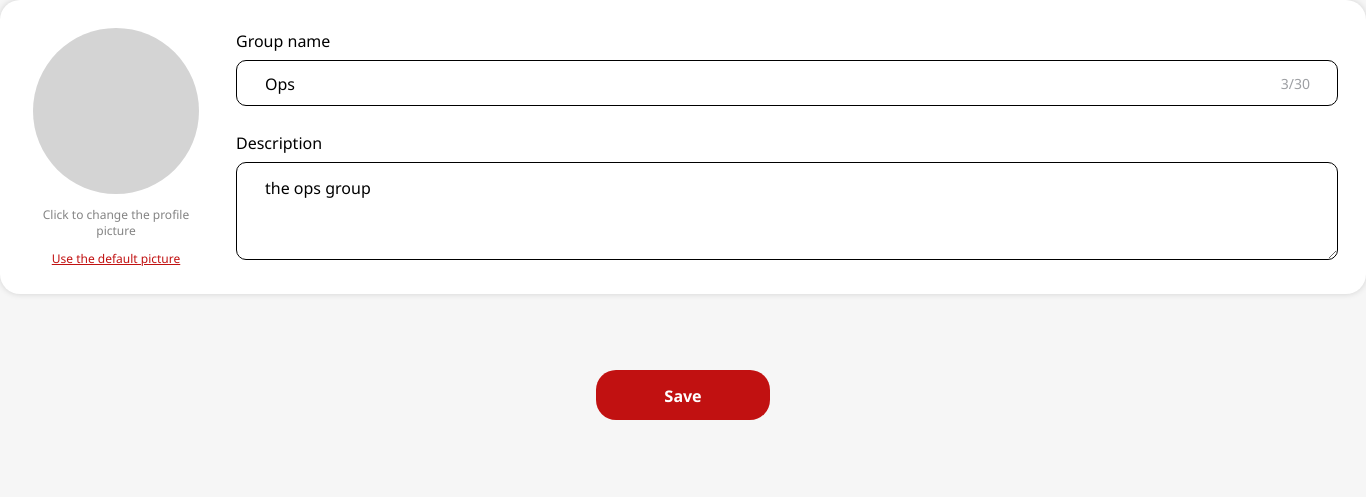
saving › keeps the user on the form and shows why when the core refuses
Replace the text in the field with id "groupName" with "Ops Team". click: coordinates (787, 83)
box: [236,60,1338,106]
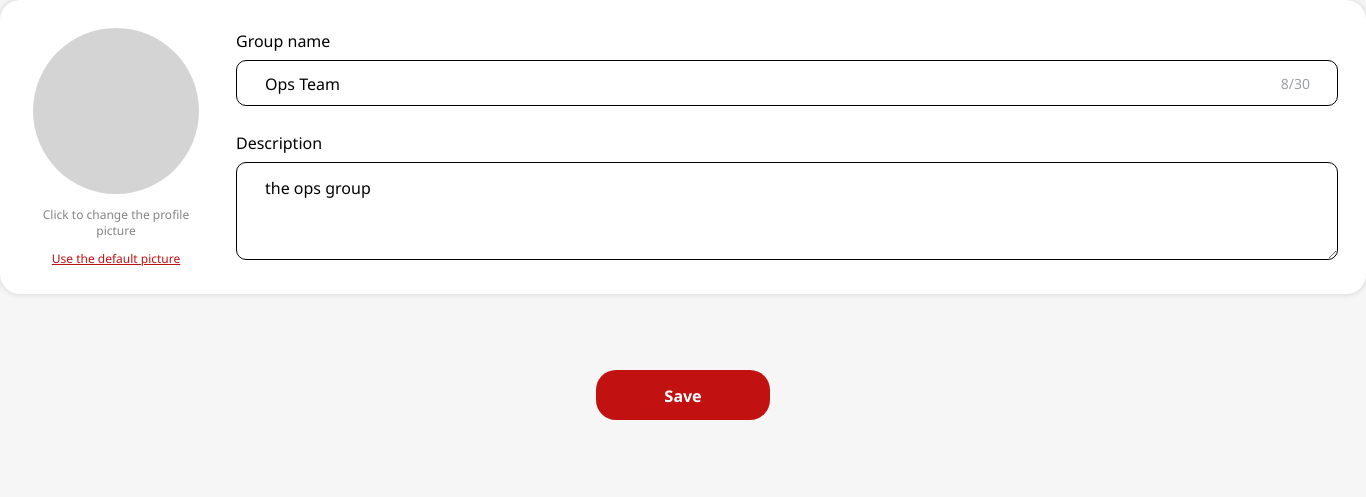
Click the submit button. click: coordinates (683, 395)
box: [596,370,770,420]
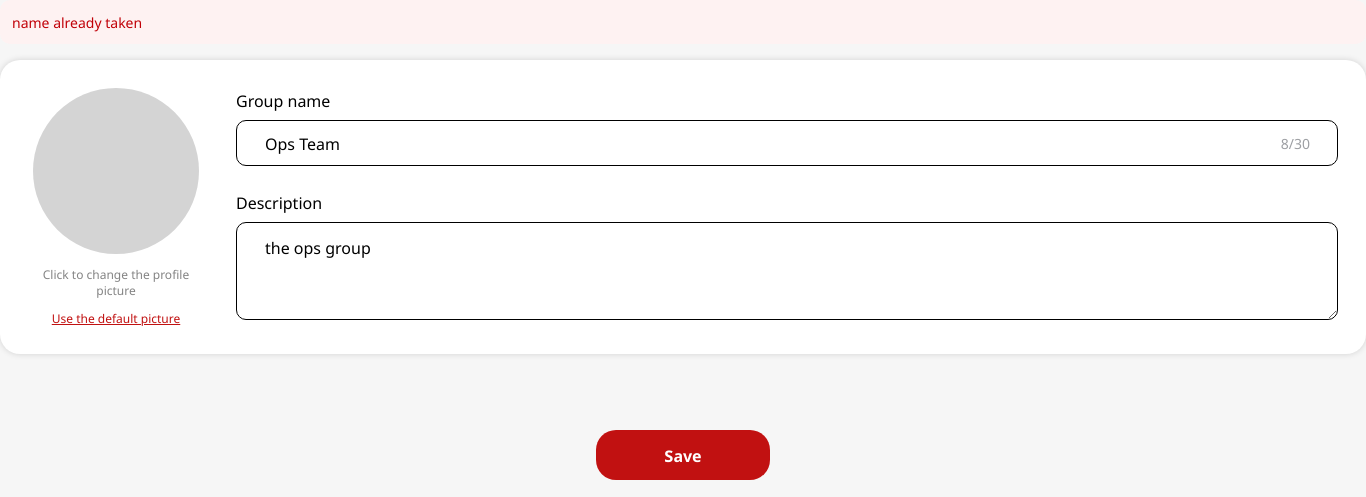
Expected: the text "name already taken" is shown, [0,0,1365,44]
